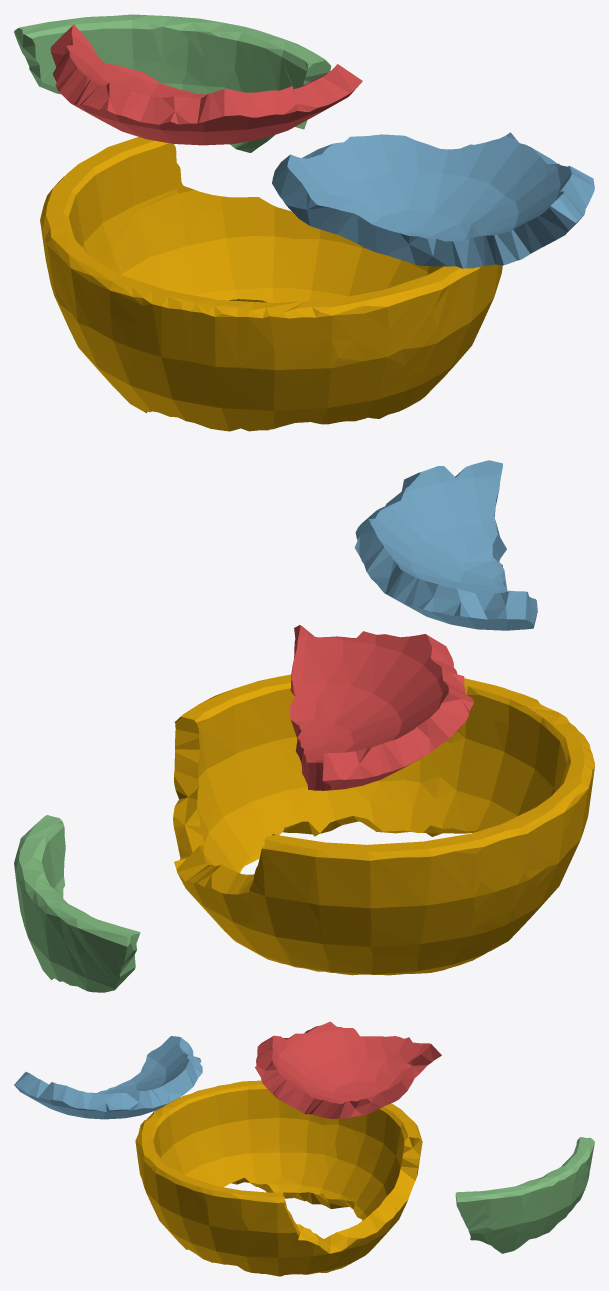
The model's file is fractured_77_4pcs_transformed.glb.
The picture shows the model from 3 angles, top to bottom: view 1: azimuth 30°, elevation 25°; view 2: azimuth 150°, elevation 25°; view 3: azimuth 270°, elevation 25°; orthographic projection. The views are drawn at different scales.
Visible parts, largest first — view 1: piece_0.obj, piece_2.obj, piece_3.obj, piece_1.obj; view 2: piece_0.obj, piece_1.obj, piece_2.obj, piece_3.obj; view 3: piece_0.obj, piece_1.obj, piece_3.obj, piece_2.obj.
Part boxes in pixels (x1,y1,x2,y2): piece_0.obj: [40, 137, 502, 431]; piece_2.obj: [272, 132, 594, 268]; piece_3.obj: [14, 14, 331, 152]; piece_1.obj: [50, 24, 362, 145]; piece_0.obj: [173, 674, 594, 975]; piece_1.obj: [289, 625, 473, 790]; piece_2.obj: [354, 460, 537, 630]; piece_3.obj: [14, 815, 140, 992]; piece_0.obj: [135, 1080, 422, 1276]; piece_1.obj: [255, 1021, 441, 1118]; piece_3.obj: [455, 1137, 594, 1253]; piece_2.obj: [14, 1036, 202, 1119].
Size of the model in its own units: 0.9989 by 0.7425 by 2.02.
